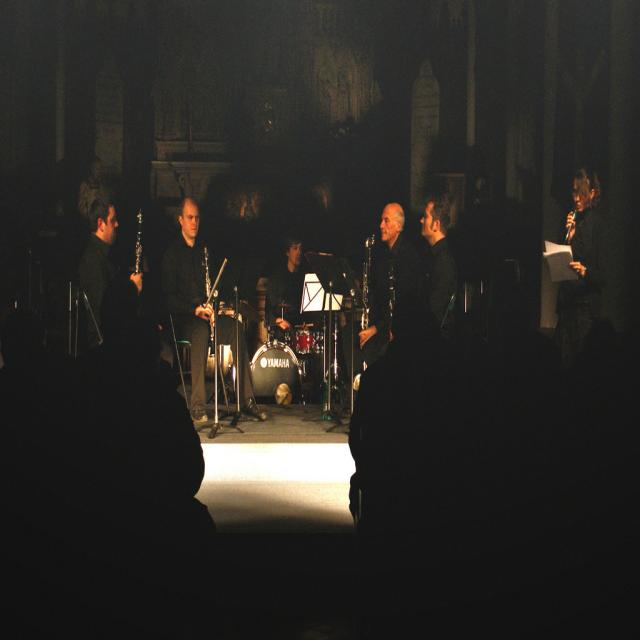clarinet: (357, 233, 377, 338), (202, 251, 218, 354), (134, 207, 146, 280)
drums: (240, 278, 344, 411)
